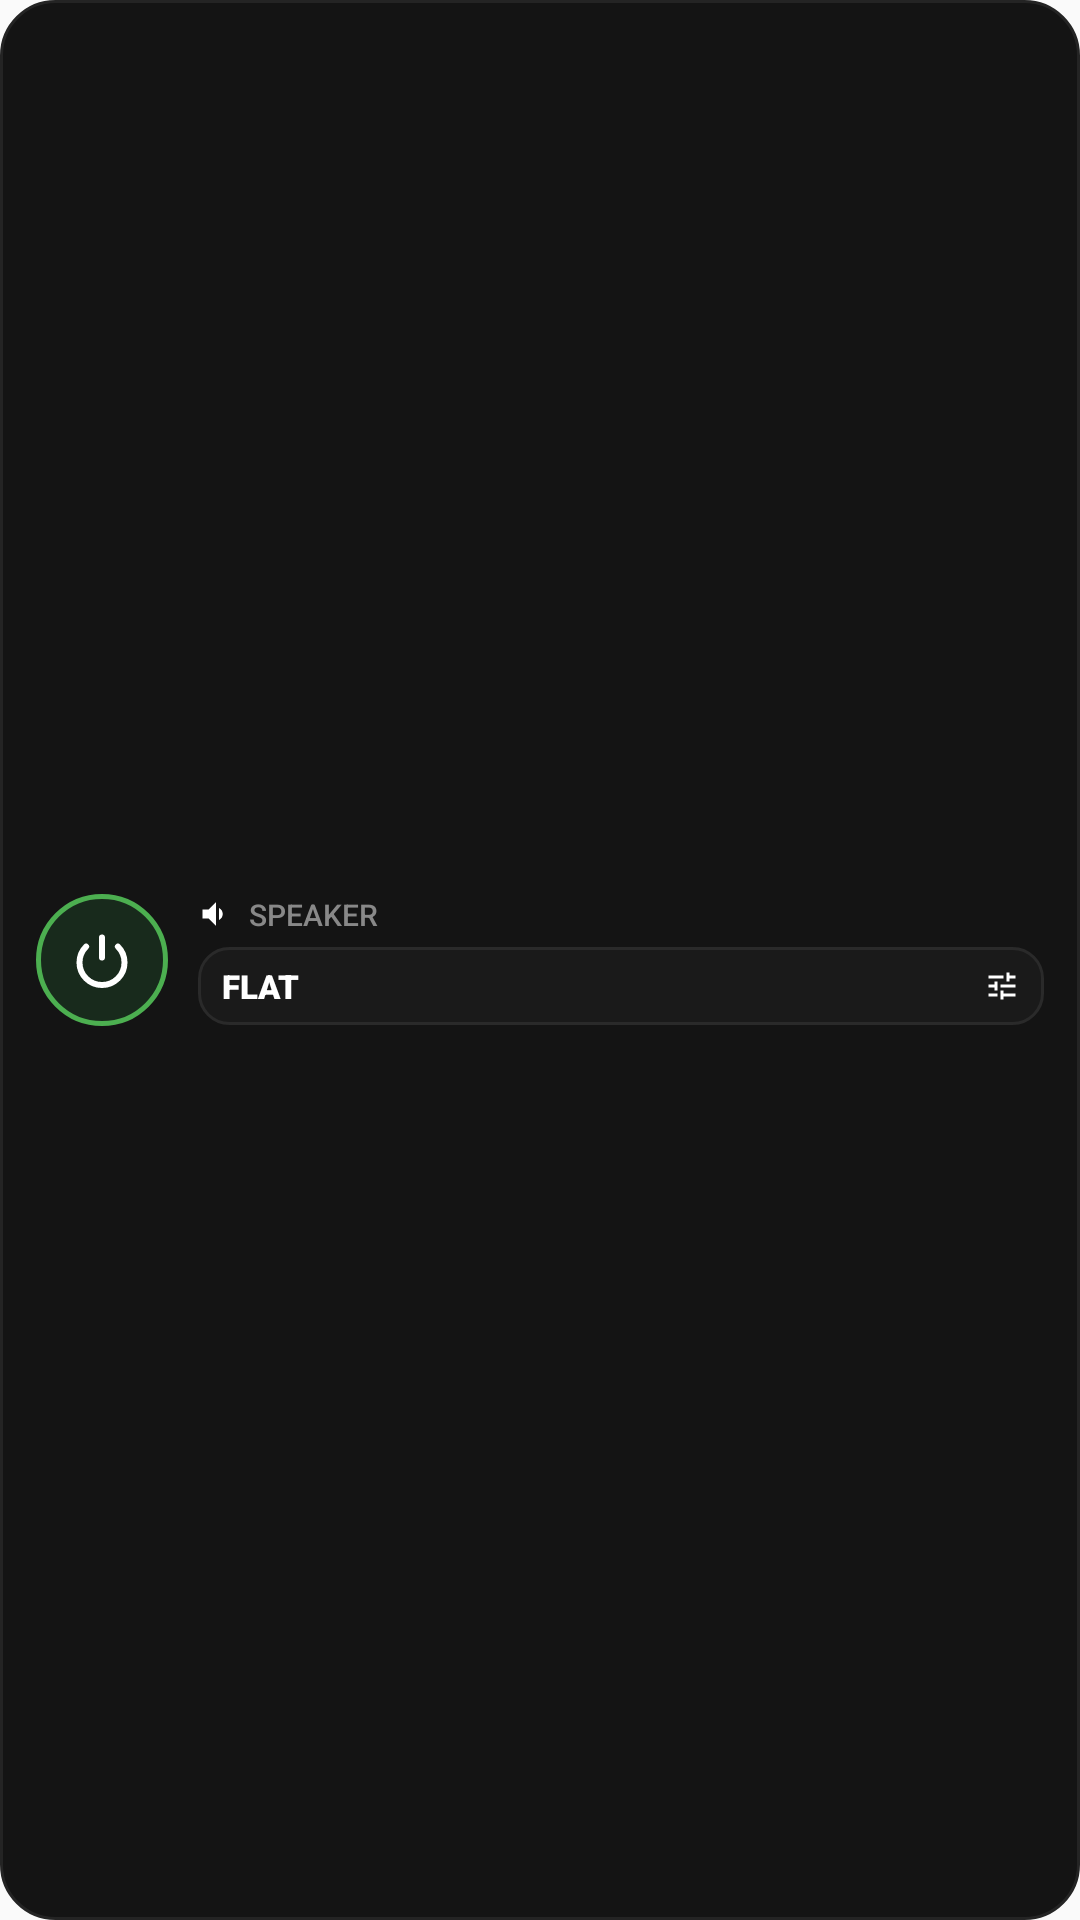

Icons on this 1080 × 1920 Android screen, each with the point to tap as (x,y):
Output device: (212,914)
Power: (102,961)
Select preset: (1002,986)
